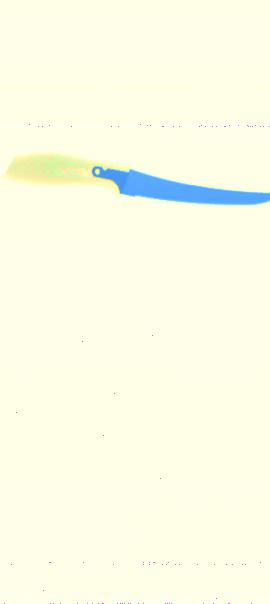Knife: (4, 156, 270, 209)
